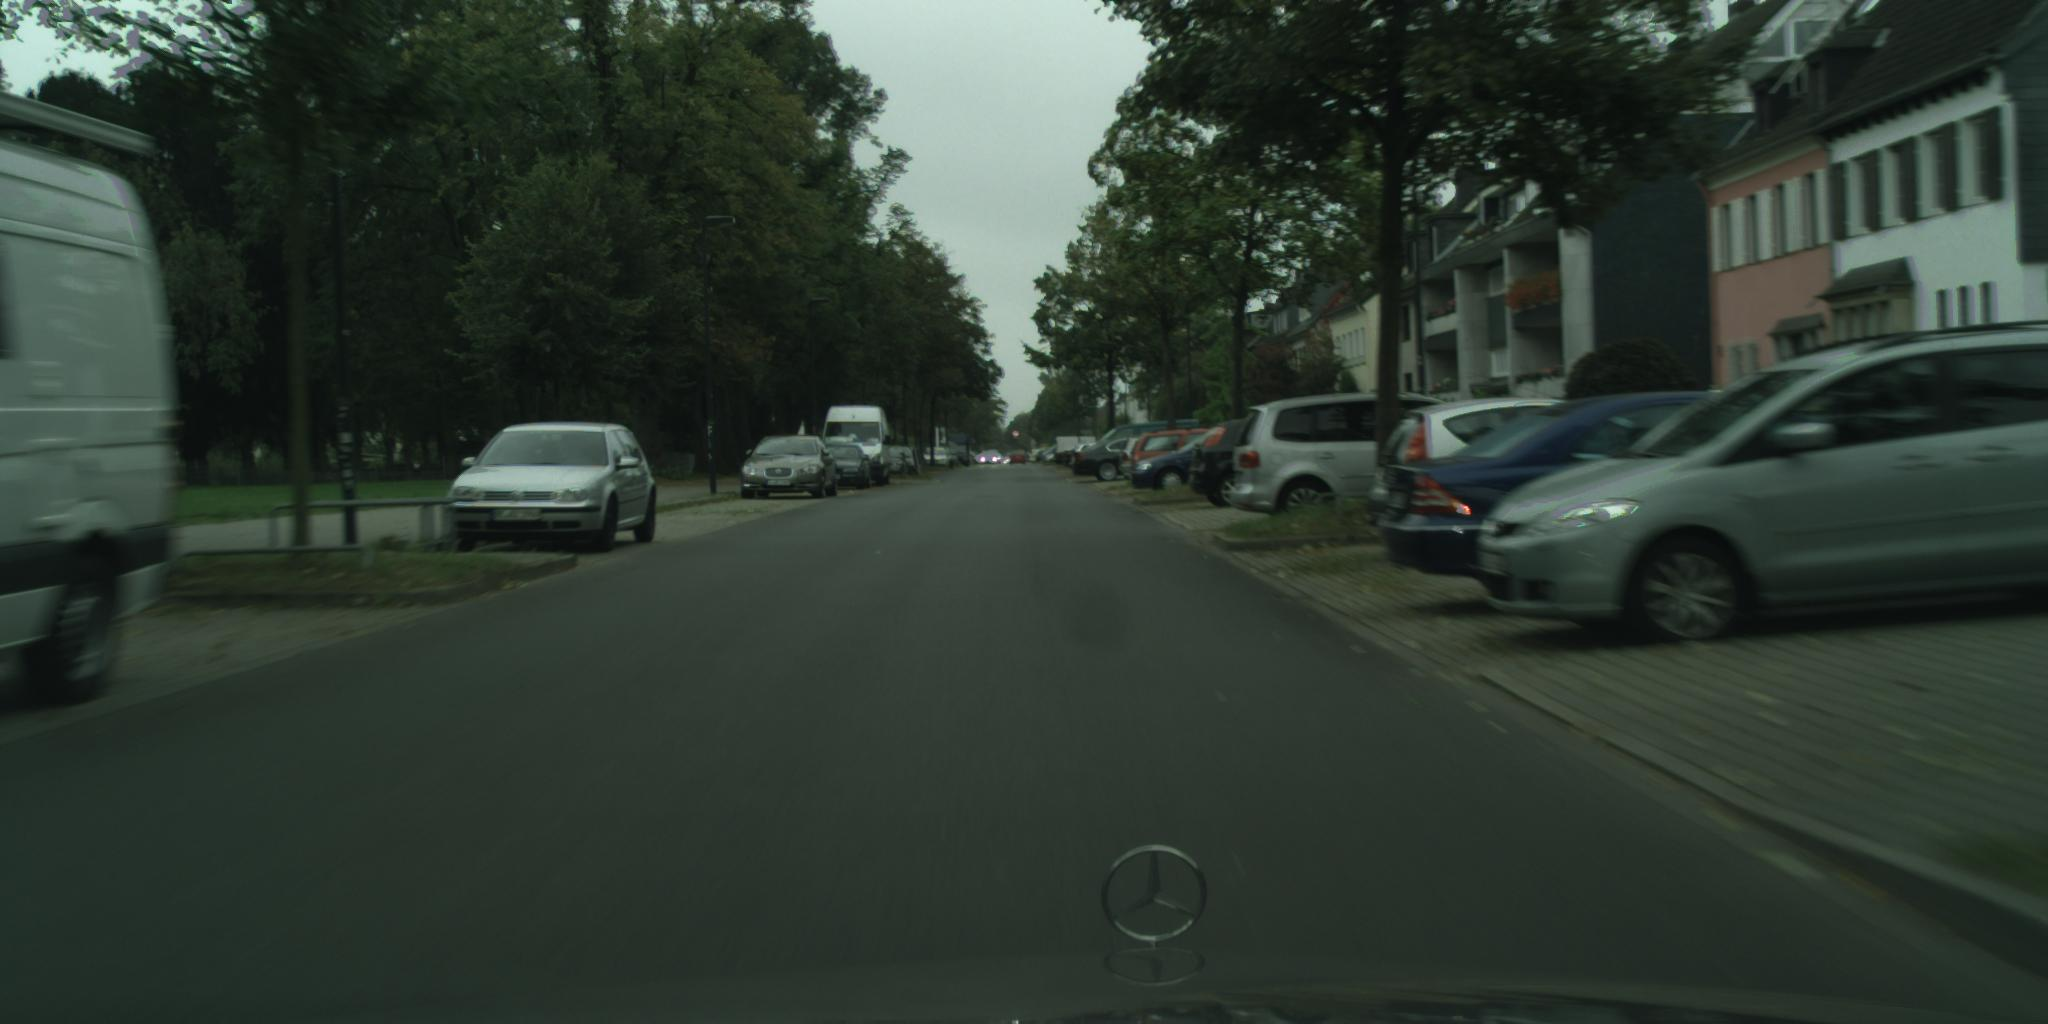car: (1475, 320, 2048, 643), (1, 91, 180, 713), (1379, 394, 1746, 579), (443, 422, 657, 556), (1368, 398, 1586, 529), (1229, 394, 1456, 515), (1190, 421, 1266, 509), (1131, 434, 1238, 492), (741, 436, 839, 499), (819, 406, 893, 488), (1132, 428, 1221, 478), (822, 445, 871, 491), (1118, 438, 1147, 481), (880, 445, 910, 481), (897, 447, 921, 477)
